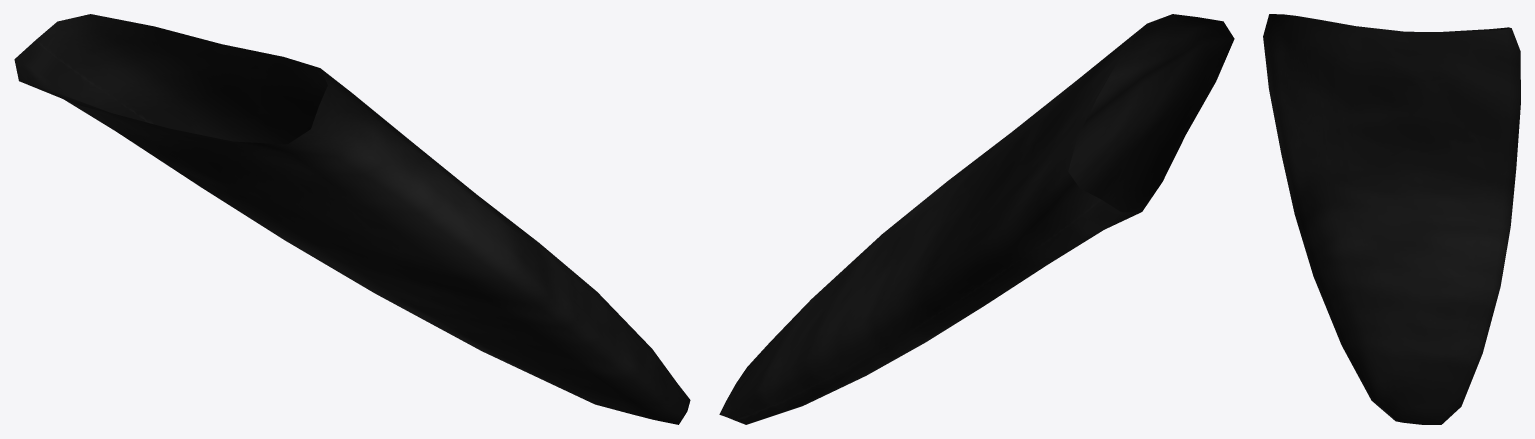
File: larm.obj
The picture shows the model from 3 angles, left to right: view 1: azimuth 30°, elevation 25°; view 2: azimuth 150°, elevation 25°; view 3: azimuth 270°, elevation 25°; orthographic projection. The views are drawn at different scales.
Parts seen in each view (by area): view 1: brazo_izq; view 2: brazo_izq; view 3: brazo_izq.
Part boxes in pixels (x1,y1,x2,y2): brazo_izq: [14, 14, 690, 424]; brazo_izq: [719, 14, 1234, 424]; brazo_izq: [1263, 14, 1520, 424].
Bounding box in the file's own units: 4.48 × 3.8 × 3.04.
